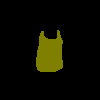canottiera: (36, 30, 62, 72)
